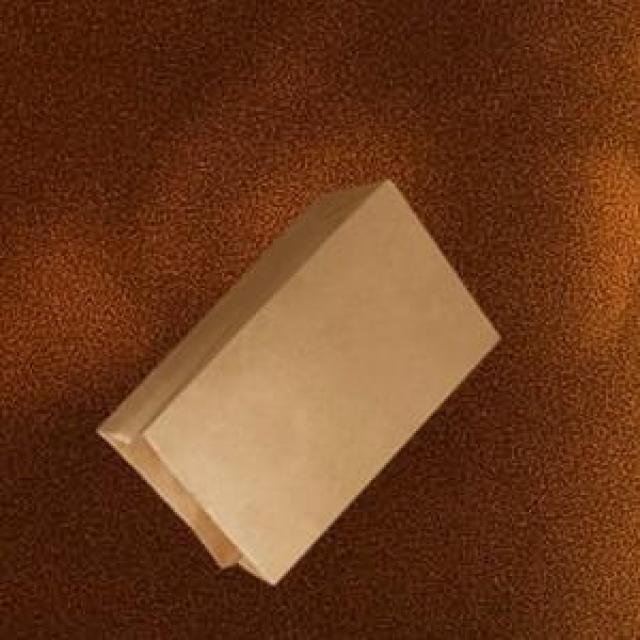paper: (94, 175, 495, 580)
